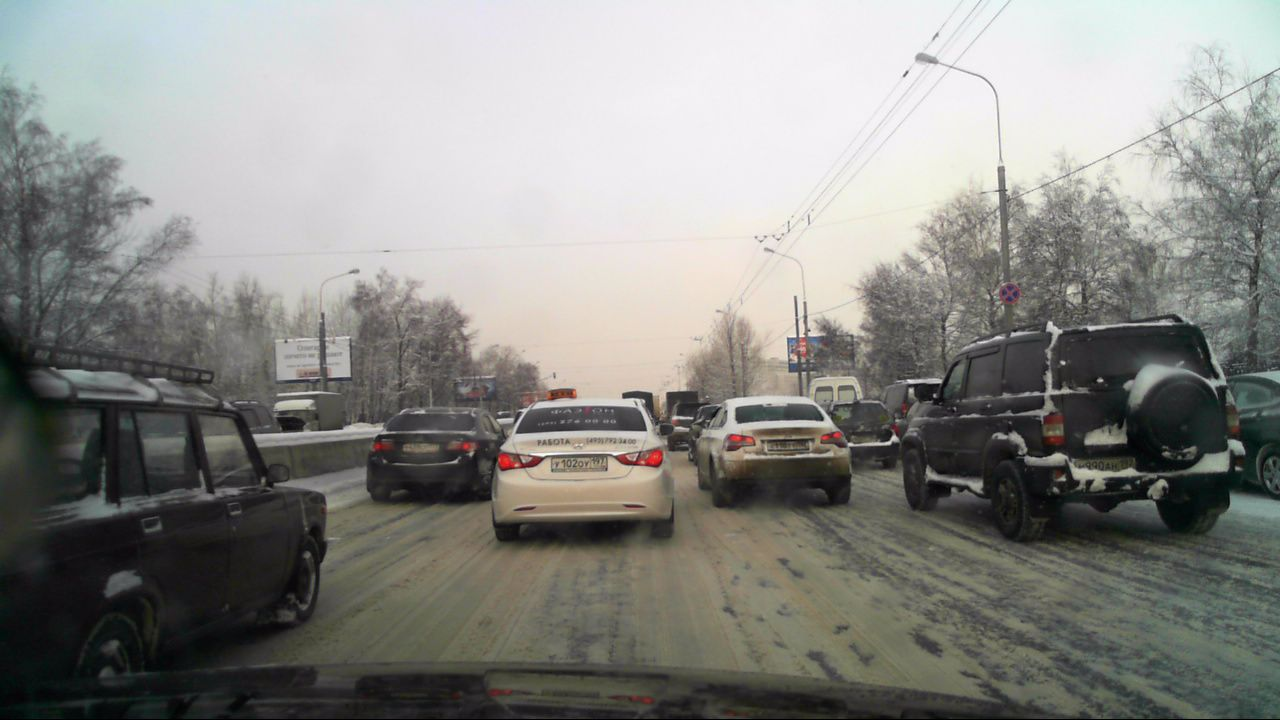No Parking: (991, 282, 1016, 306)
